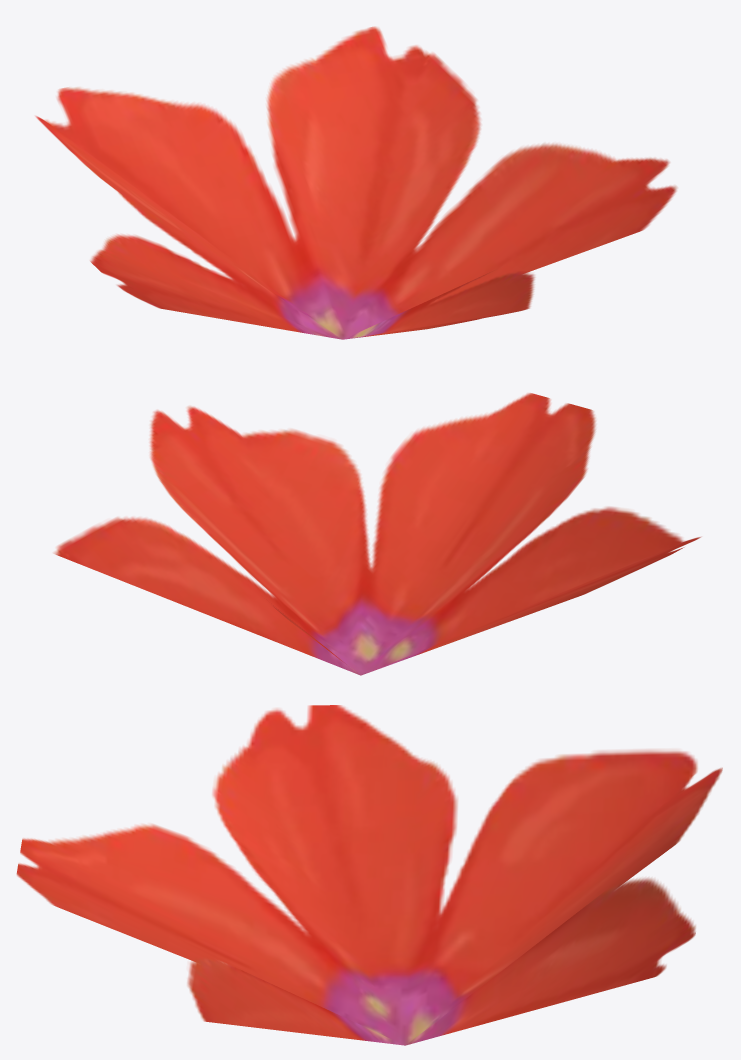
The model's file is n_petal_red.glb.
3 renders of one model, top to bottom at view 1: azimuth 30°, elevation 25°; view 2: azimuth 150°, elevation 25°; view 3: azimuth 270°, elevation 25°, orthographic. The views are drawn at different scales.
Visible parts, largest first — view 1: Petal_3; view 2: Petal_3; view 3: Petal_3.
Part boxes in pixels (box(x1,y1,x2,y2)): Petal_3: box(35, 26, 677, 339); Petal_3: box(53, 393, 700, 675); Petal_3: box(16, 705, 722, 1045).
Bounding box in the file's own units: 0.6195 × 0.1895 × 0.6064.
Materials: 1 (1 with a texture image).
